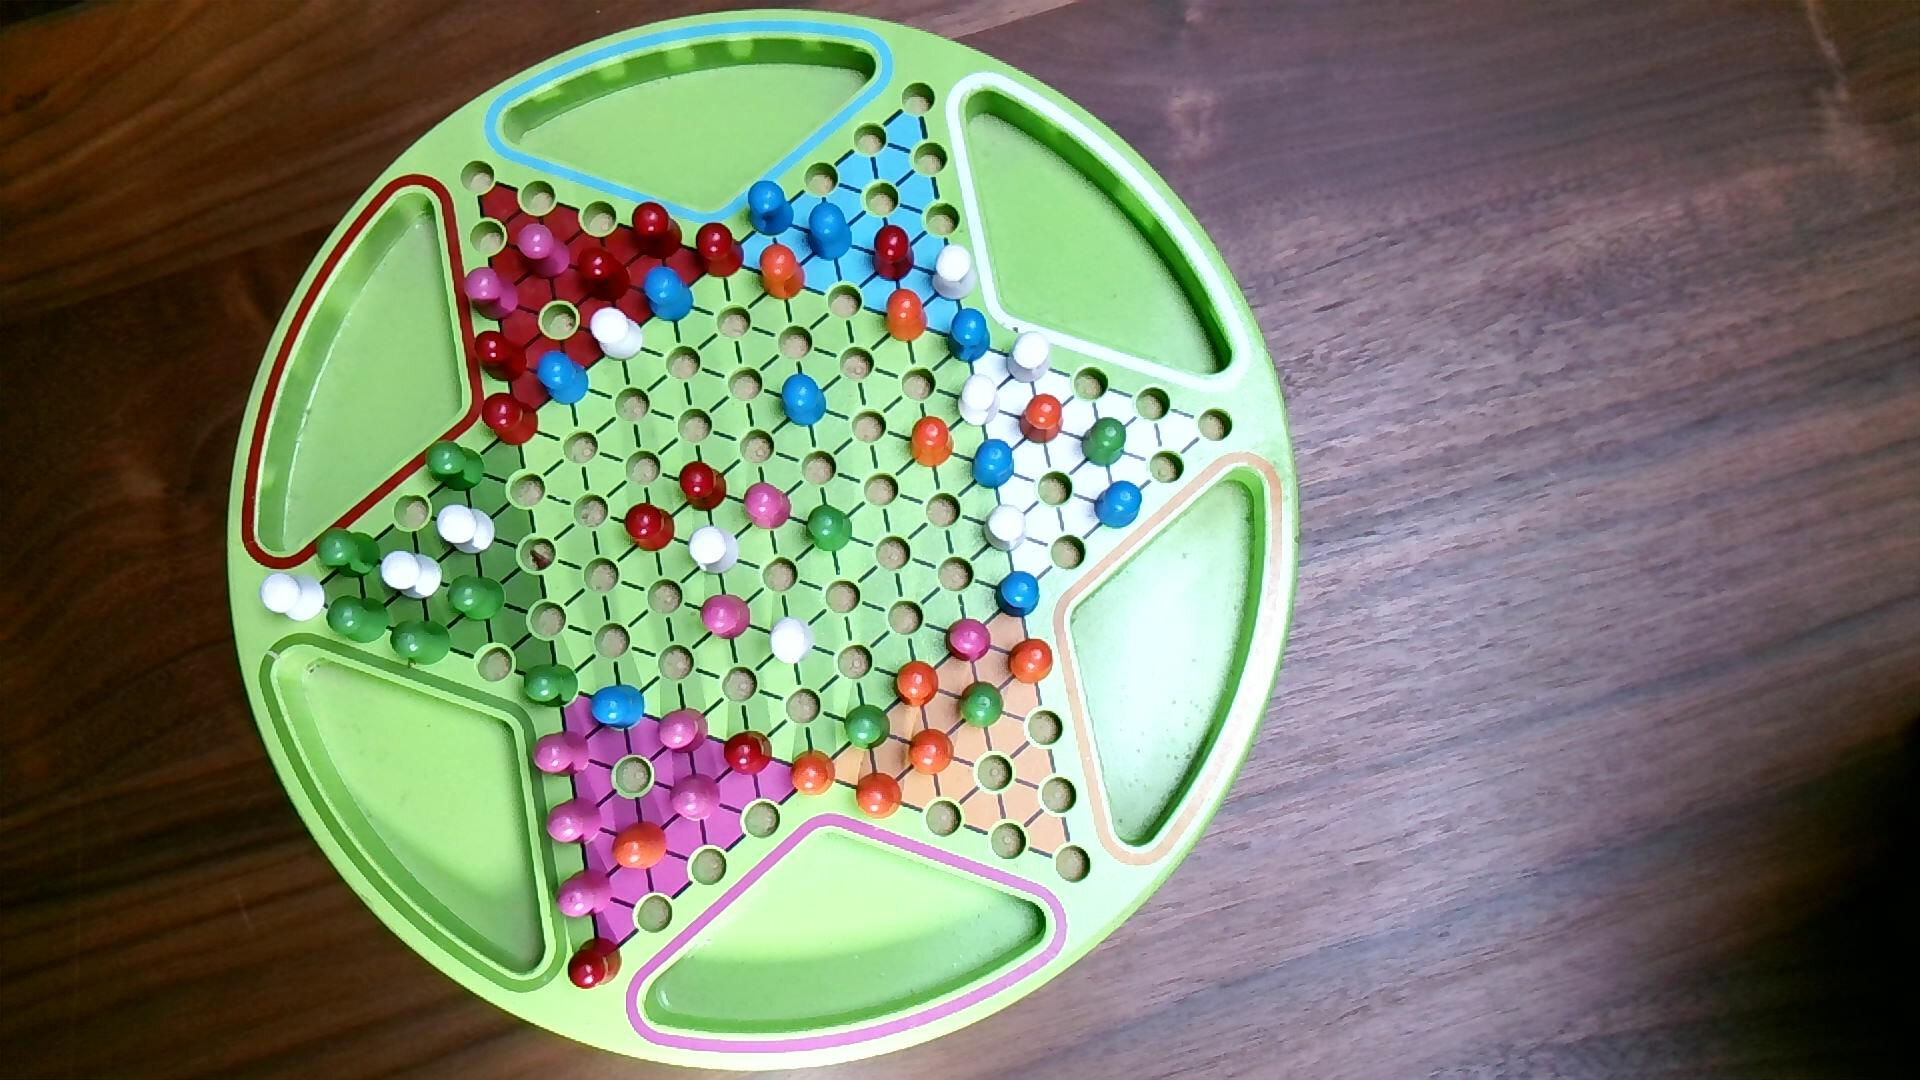B: (641, 264, 696, 324), (535, 348, 591, 407), (806, 200, 855, 262), (746, 179, 796, 239), (588, 682, 647, 732), (779, 371, 829, 429), (1092, 477, 1145, 531), (945, 306, 992, 367), (993, 568, 1043, 621), (969, 438, 1017, 492)
G: (314, 524, 382, 580), (423, 438, 487, 495), (324, 593, 392, 646), (389, 616, 454, 669), (446, 574, 508, 625), (521, 661, 582, 711), (1079, 414, 1130, 469), (803, 502, 856, 555), (841, 702, 893, 753), (956, 679, 1006, 732)
O: (611, 819, 669, 874), (757, 243, 807, 303), (882, 287, 930, 344), (907, 415, 956, 469), (906, 727, 956, 778), (891, 658, 942, 709), (1018, 392, 1065, 446), (855, 771, 905, 822), (789, 748, 837, 798), (1006, 637, 1055, 687)
R: (575, 244, 634, 305), (479, 390, 541, 448), (629, 199, 684, 262), (566, 935, 625, 992), (694, 219, 746, 282), (472, 328, 530, 385), (676, 459, 731, 514), (621, 502, 678, 555), (870, 222, 916, 285), (723, 729, 775, 779)
R2: (513, 222, 574, 281), (462, 265, 521, 322), (554, 866, 615, 920), (530, 729, 593, 781), (543, 795, 604, 848), (669, 771, 723, 824), (741, 480, 794, 533), (655, 705, 709, 756), (698, 593, 752, 644), (943, 616, 994, 665)
W: (258, 570, 328, 626), (378, 549, 444, 603), (588, 305, 647, 364), (435, 502, 498, 558), (684, 525, 742, 579), (930, 243, 978, 305), (1005, 328, 1054, 386), (956, 371, 1004, 429), (767, 615, 818, 669), (981, 502, 1030, 556)
